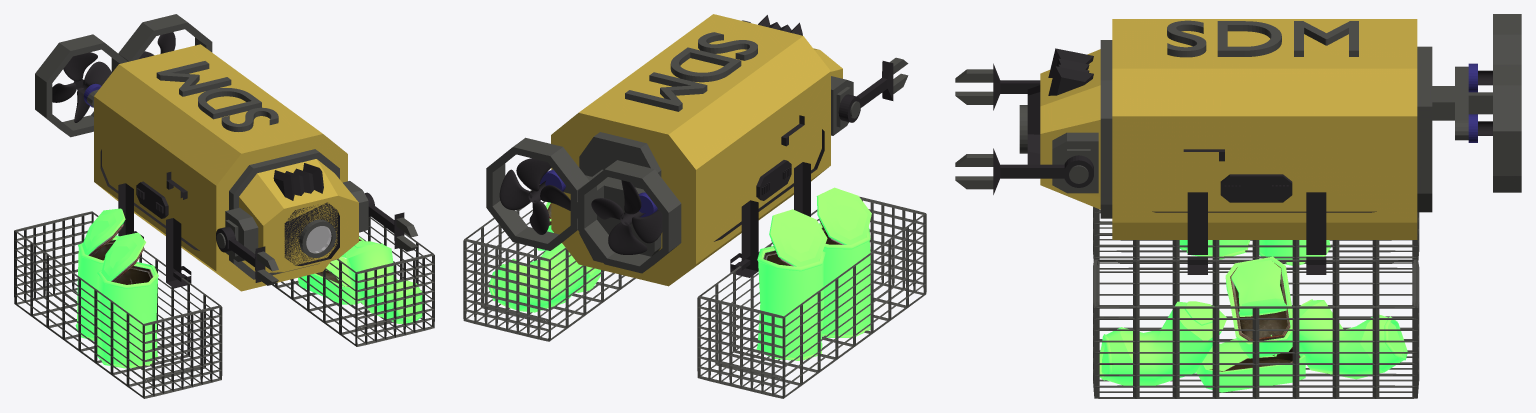
Rendered from collector_with_2cans.glb.
3 renders of one model, left to right at view 1: azimuth 30°, elevation 25°; view 2: azimuth 150°, elevation 25°; view 3: azimuth 270°, elevation 25°, orthographic. The views are drawn at different scales.
Parts seen in each view (by area): view 1: main_body, neck, Can_02_GEO.006, Can_02_GEO, camera_lens; view 2: main_body, neck, Can_02_GEO.006, Circle.002, Can_02_GEO; view 3: main_body, neck, Can_02_GEO.006, Can_02_GEO, Circle.002.
Boxes of the visible parts, <box> form: main_body: <box>52,32,404,291</box>; neck: <box>14,14,434,398</box>; Can_02_GEO.006: <box>75,208,425,368</box>; Can_02_GEO: <box>88,224,361,286</box>; camera_lens: <box>306,226,331,253</box>; main_body: <box>499,14,893,286</box>; neck: <box>463,20,926,398</box>; Can_02_GEO.006: <box>488,187,871,360</box>; Circle.002: <box>540,170,657,217</box>; Can_02_GEO: <box>547,203,844,266</box>; main_body: <box>993,19,1492,274</box>; neck: <box>955,14,1521,398</box>; Can_02_GEO.006: <box>1099,240,1407,392</box>; Can_02_GEO: <box>1210,263,1300,371</box>; Circle.002: <box>1468,63,1477,142</box>.
Size of the model in its own units: 4.09 by 2.96 by 5.53.
Materials: 6 (6 with a texture image).
